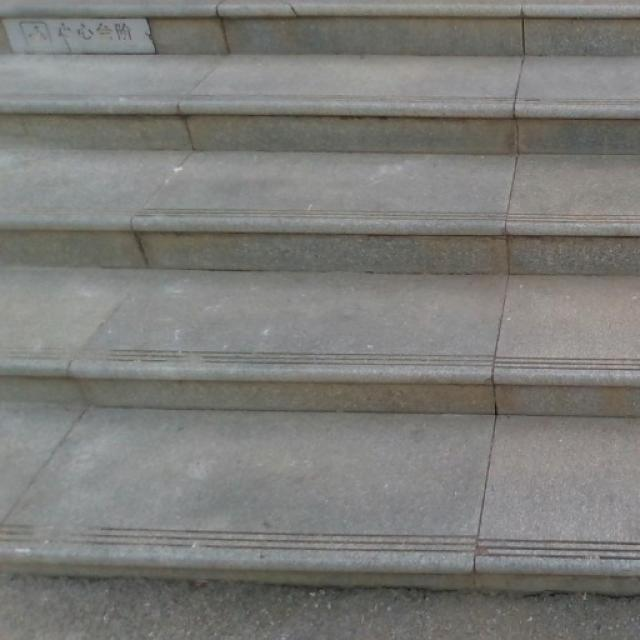Stairs: (0, 0, 639, 596)
